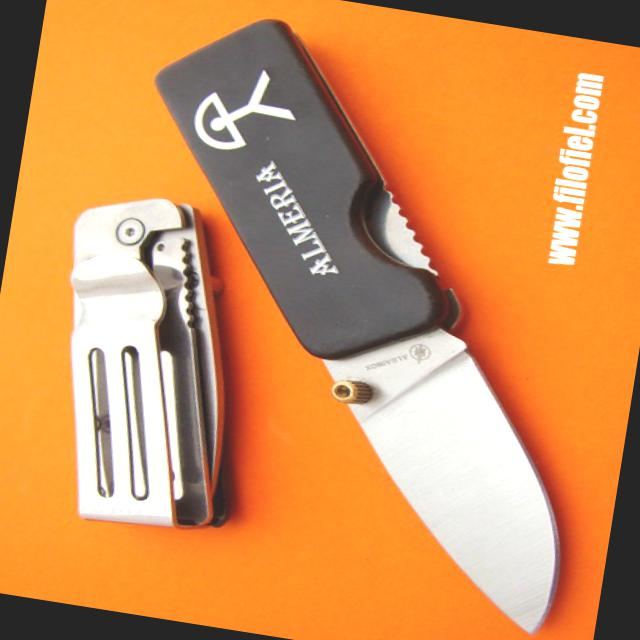knife: (278, 304, 608, 639)
